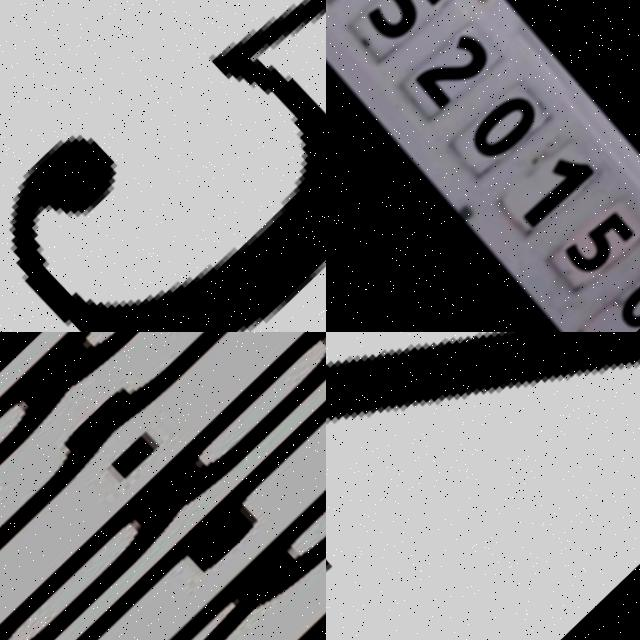0: (454, 73, 568, 185), (610, 259, 640, 332)
1: (163, 485, 326, 640), (505, 135, 616, 244)
2: (405, 16, 516, 125)
3: (0, 332, 326, 631)
5: (0, 0, 326, 332), (556, 196, 640, 298), (351, 0, 467, 62)
B: (0, 332, 326, 640), (0, 332, 290, 624)
F: (0, 332, 326, 640)
H: (0, 332, 249, 541)
R: (45, 357, 326, 640), (95, 437, 326, 640)
Z: (326, 332, 640, 640)
